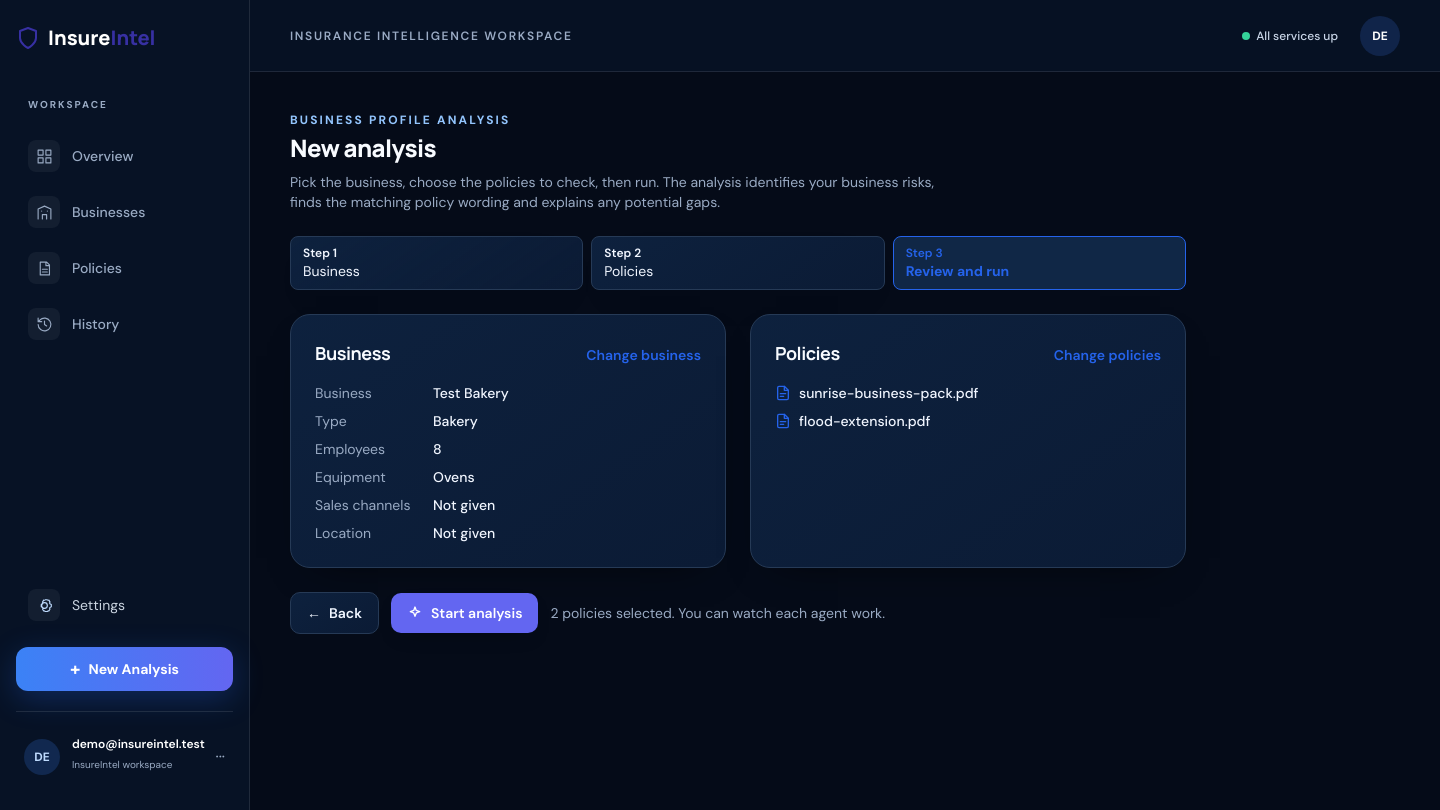
Test: new analysis: step 3, review and run › shows the business and the policies, with a way back to each
The image size is (1440, 810).
Expected: the heading "New analysis" is shown, 290,131 -> 436,164
Expected: the list named "Chosen policies" is shown, 775,384 -> 978,430
Step 1. Click the button "Change policies" → coordinates (1107, 355), box 1054,345 -> 1161,365
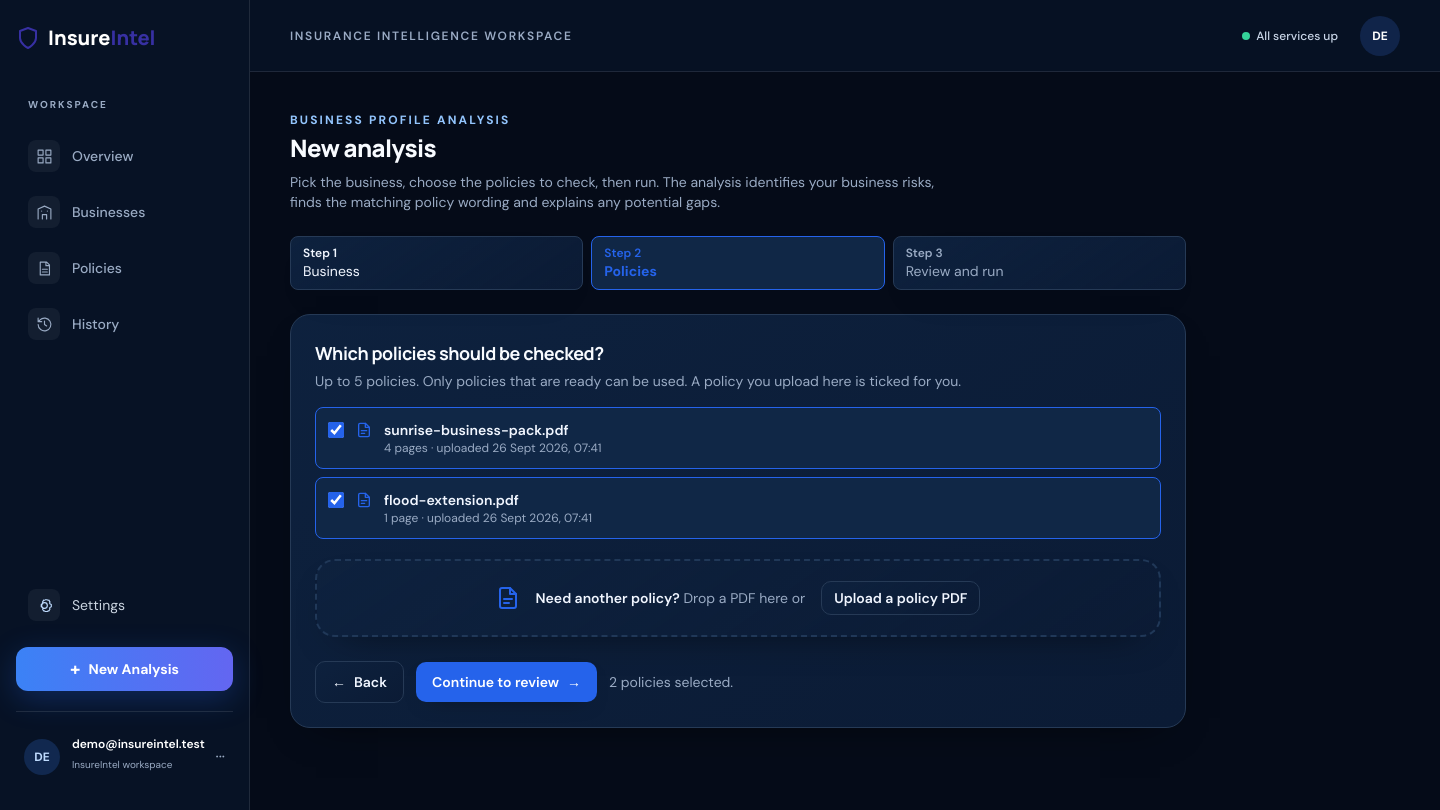
Result: the heading "Which policies should be checked?" is shown at 315,341 -> 604,365
